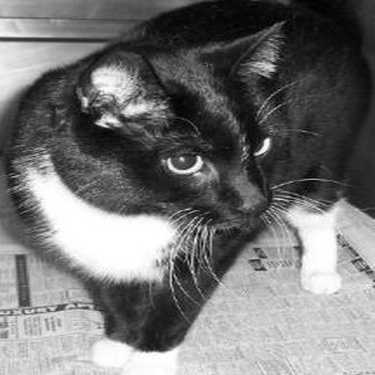cat: (1, 11, 358, 355)
